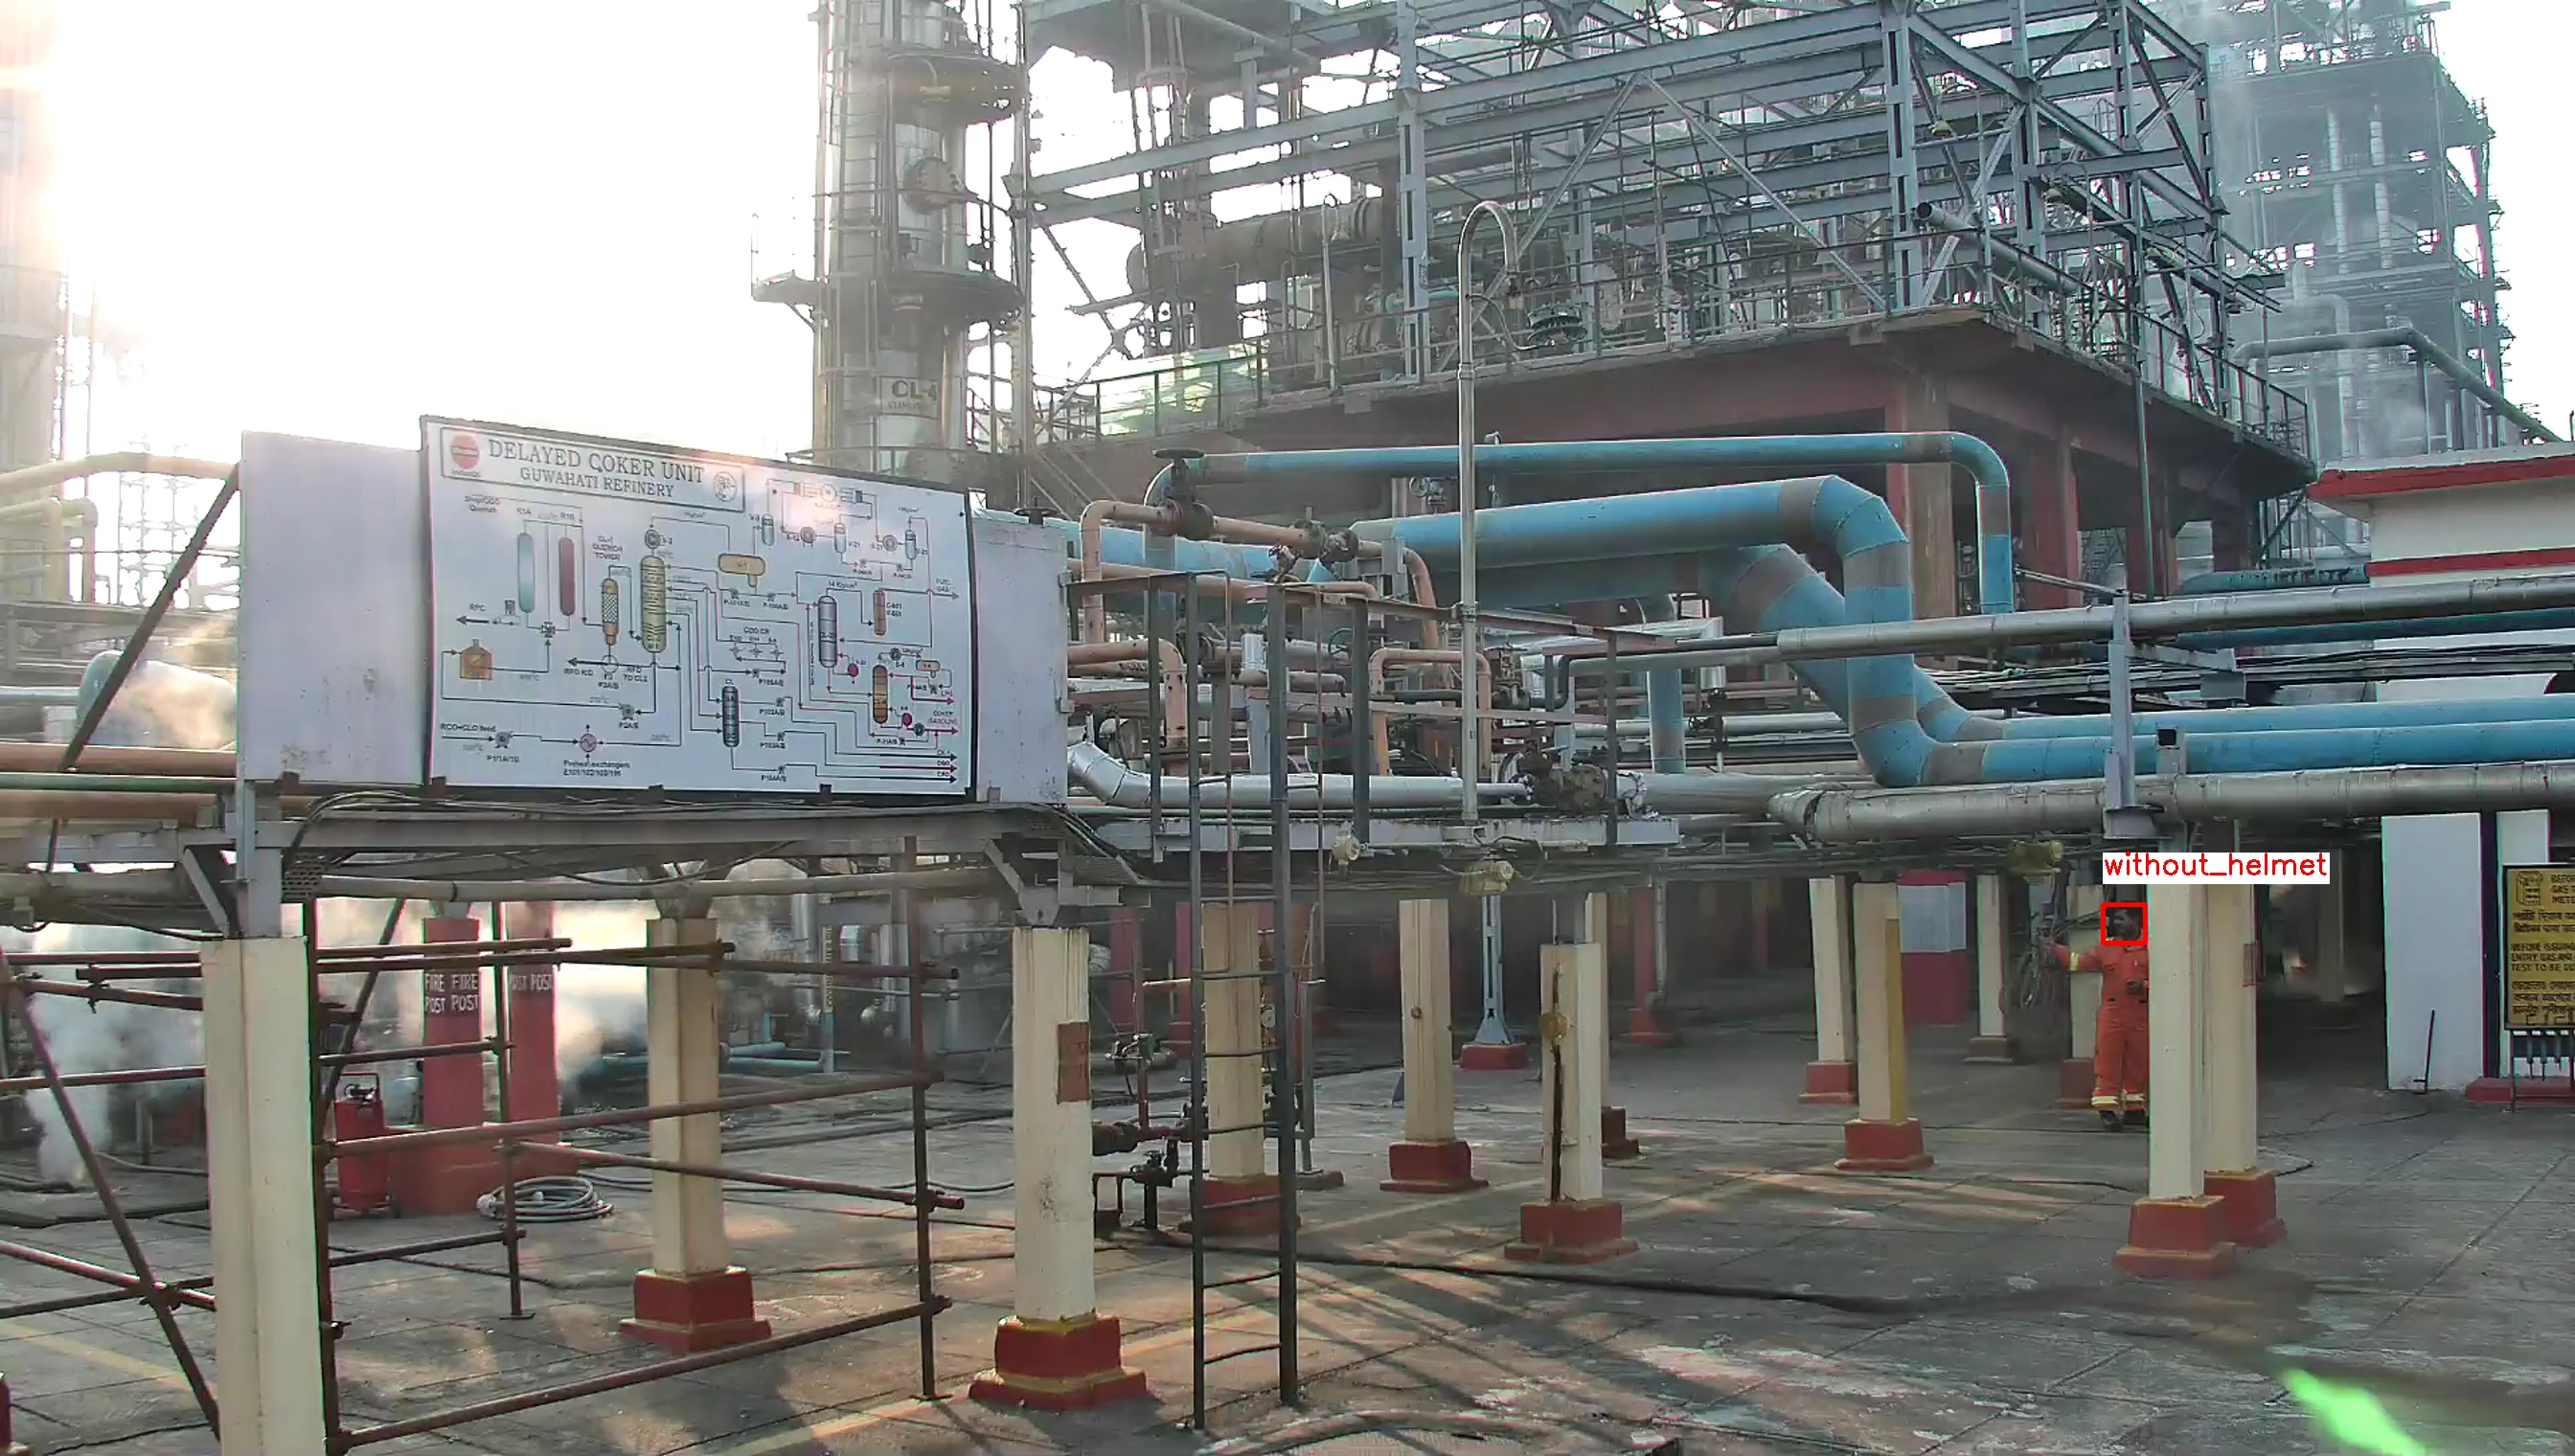IFR_Suit: (2046, 939, 2149, 1118)
